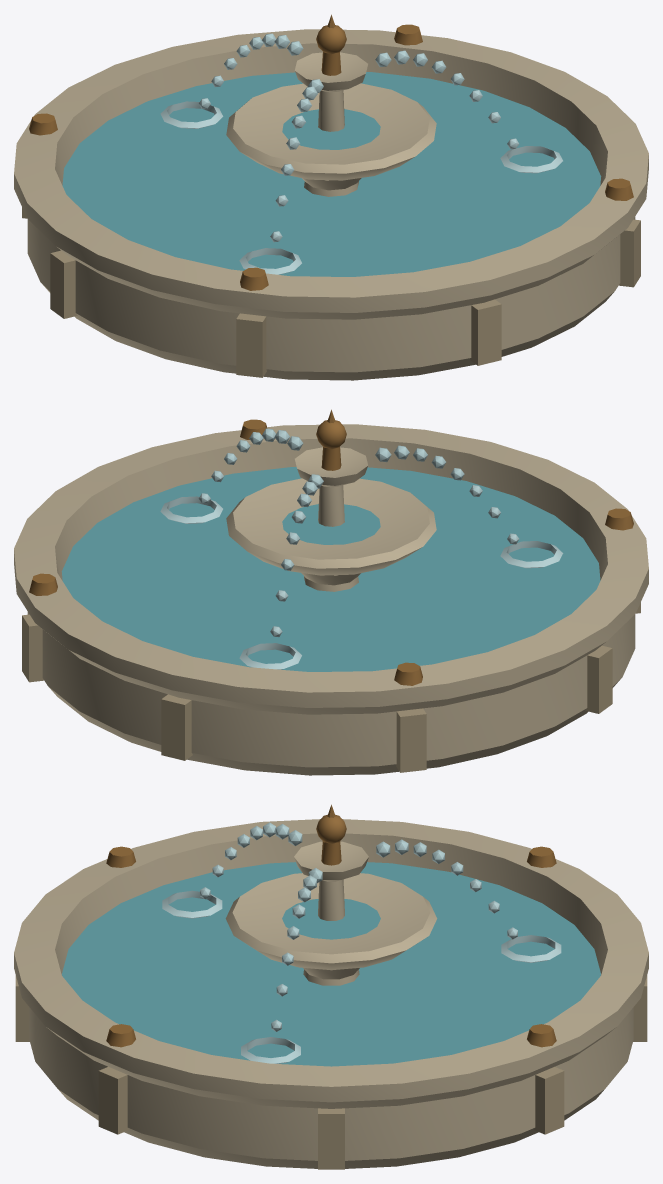
Rendered from fountain.glb.
3 renders of one model, top to bottom at view 1: azimuth 30°, elevation 25°; view 2: azimuth 150°, elevation 25°; view 3: azimuth 270°, elevation 25°, orthographic.
Parts seen in each view (by area): view 1: decor-fountain; view 2: decor-fountain; view 3: decor-fountain.
Boxes of the visible parts, box(x1,y1,x2,y2) form: decor-fountain: box(14, 14, 648, 380); decor-fountain: box(14, 409, 648, 775); decor-fountain: box(14, 804, 648, 1169).
Size of the model in its own units: 3.72 by 1.56 by 3.72.
